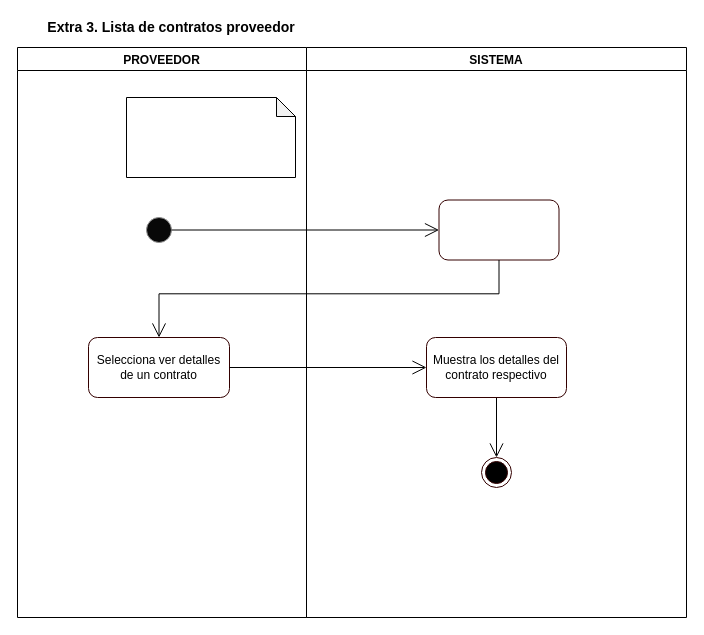
Image size: 704x635. Some labels were removed from this diagram. Each missing label, with the centre of its shape:
Este flujo se inicia cuando el proveedor selecciona lista de contratos: point 211,137
Muestra interfaz "lista de contratos": point 498,229
